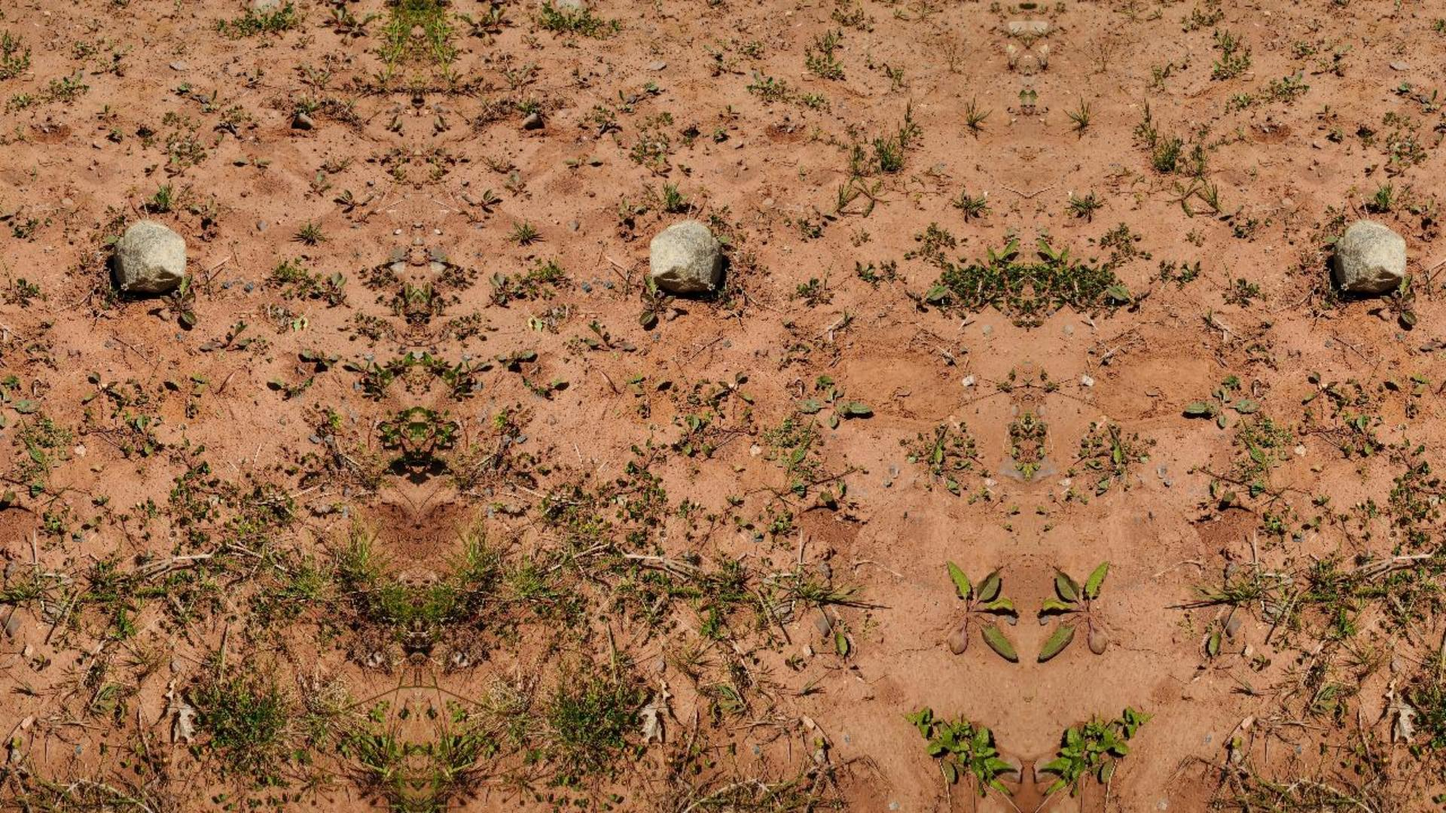rock: (650, 220, 722, 294), (113, 220, 185, 294), (1333, 220, 1405, 294)
